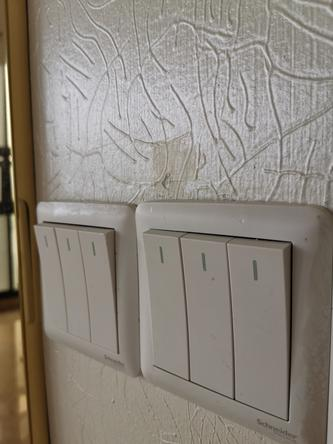switch: (218, 234, 300, 423), (176, 229, 239, 401), (140, 226, 193, 382), (74, 223, 121, 358), (50, 222, 94, 348), (29, 219, 69, 335)
